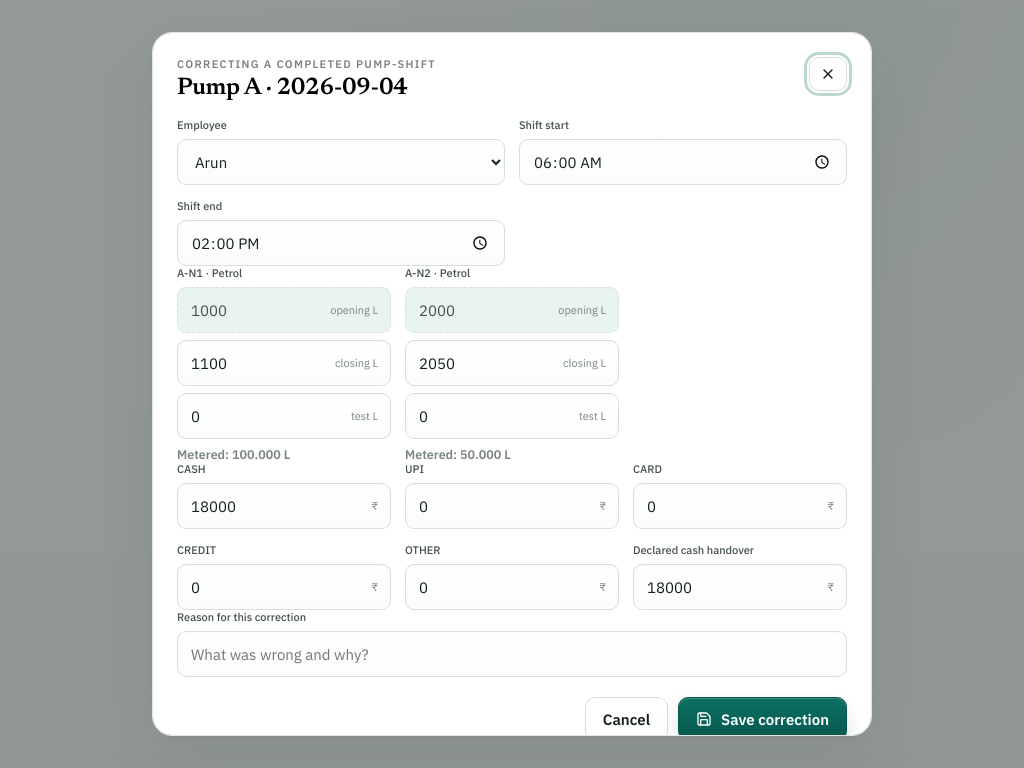
it: PumpShiftCorrectionDialog › shows each nozzle's opening as read-only and previews metered litres from the edited closing
Expected: the field named "A-N1 · Petrol opening" holds "1000", left=177, top=287, right=391, bottom=333
Expected: the text "Metered: 100.000 L" is shown, left=177, top=446, right=290, bottom=462
Step 1. Replace the text in the number field named "A-N1 · Petrol closing" with "1120.5" → (284, 363), box left=177, top=340, right=391, bottom=386
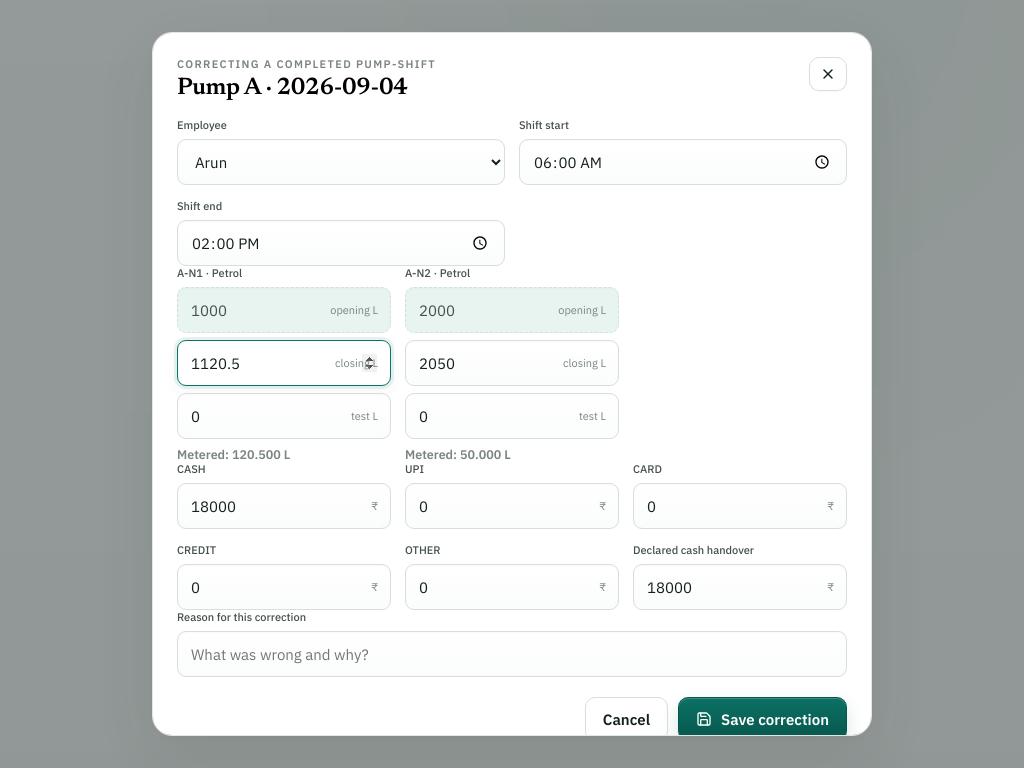
Now the text "Metered: 120.500 L" is shown, box left=177, top=446, right=290, bottom=462
Step 2. Replace the text in the number field named "A-N1 · Petrol closing" with "990" → (284, 363), box left=177, top=340, right=391, bottom=386
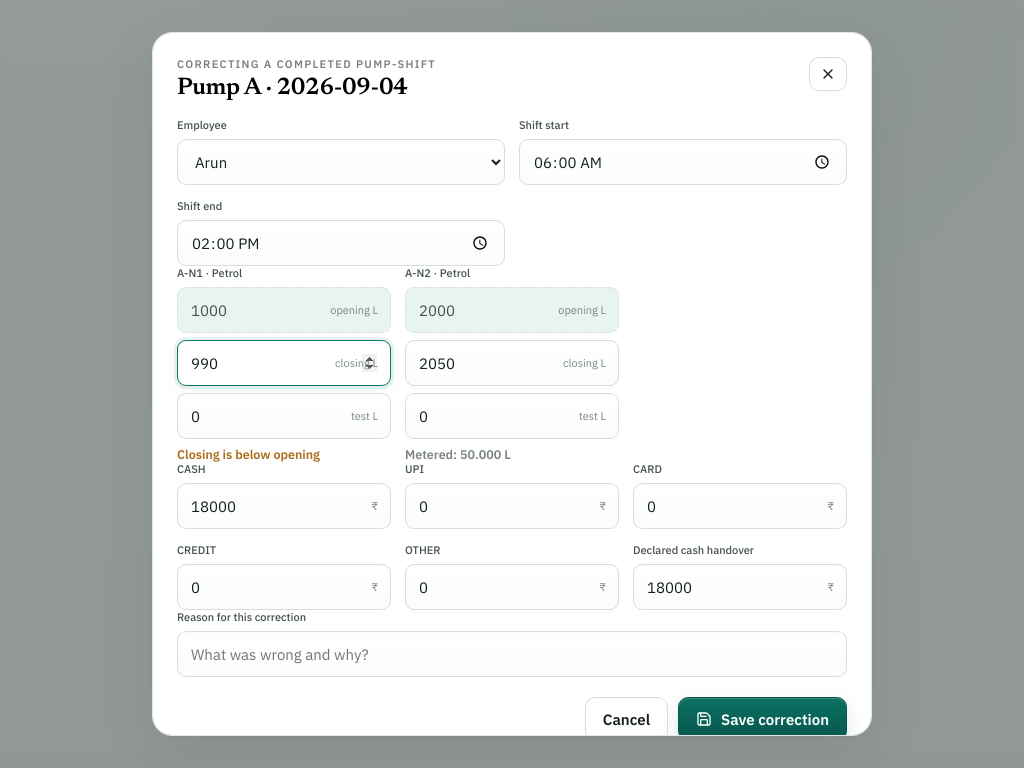
Now the text "Closing is below opening" is shown, box left=177, top=446, right=320, bottom=462
